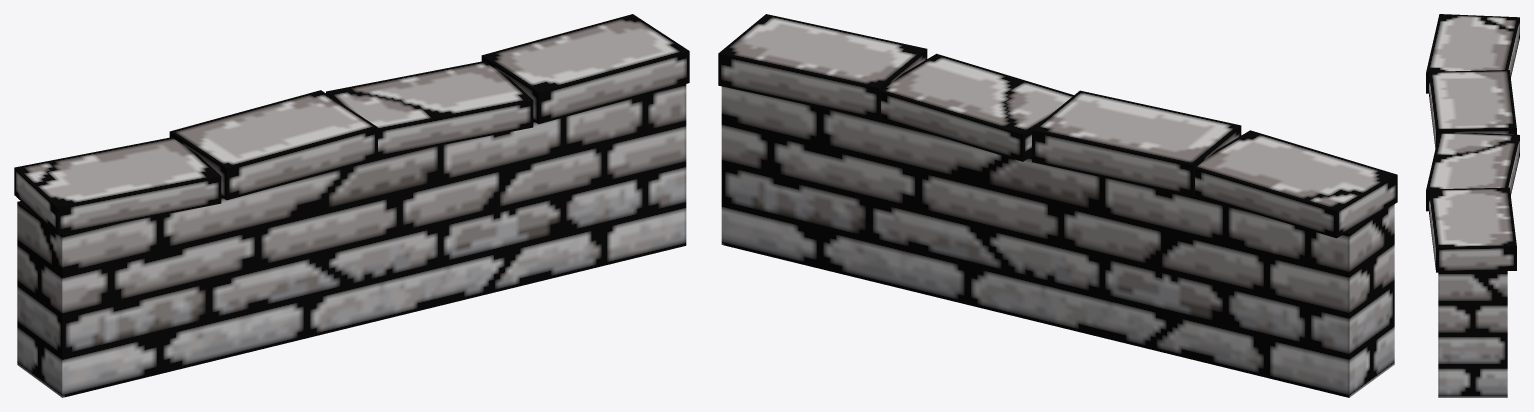
Rendered from deco_winter_wallLong.FBX.
3 renders of one model, left to right at view 1: azimuth 30°, elevation 25°; view 2: azimuth 150°, elevation 25°; view 3: azimuth 270°, elevation 25°, orthographic. The views are drawn at different scales.
Visible parts, largest first — view 1: deco_winter_wallLong; view 2: deco_winter_wallLong; view 3: deco_winter_wallLong.
Boxes of the visible parts, x1,y1,x2,y2 form: deco_winter_wallLong: (14,14,689,397); deco_winter_wallLong: (718,14,1397,397); deco_winter_wallLong: (1426,14,1519,397).
Size of the model in its own units: 4.04 by 1.2 by 0.6742.
Materials: 1 (1 with a texture image).
